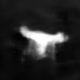plane: (18, 24, 69, 62)
